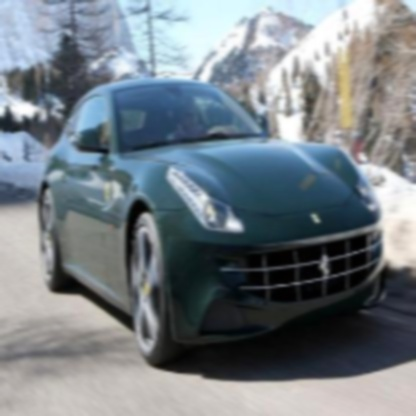Vehicle: (40, 77, 388, 368)
